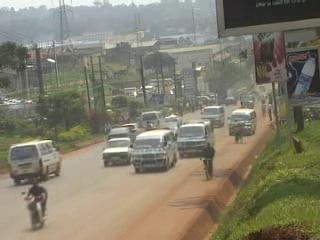Car: (105, 126, 136, 148), (121, 120, 143, 138), (221, 95, 240, 107)
Motorcycle: (20, 188, 48, 230)
